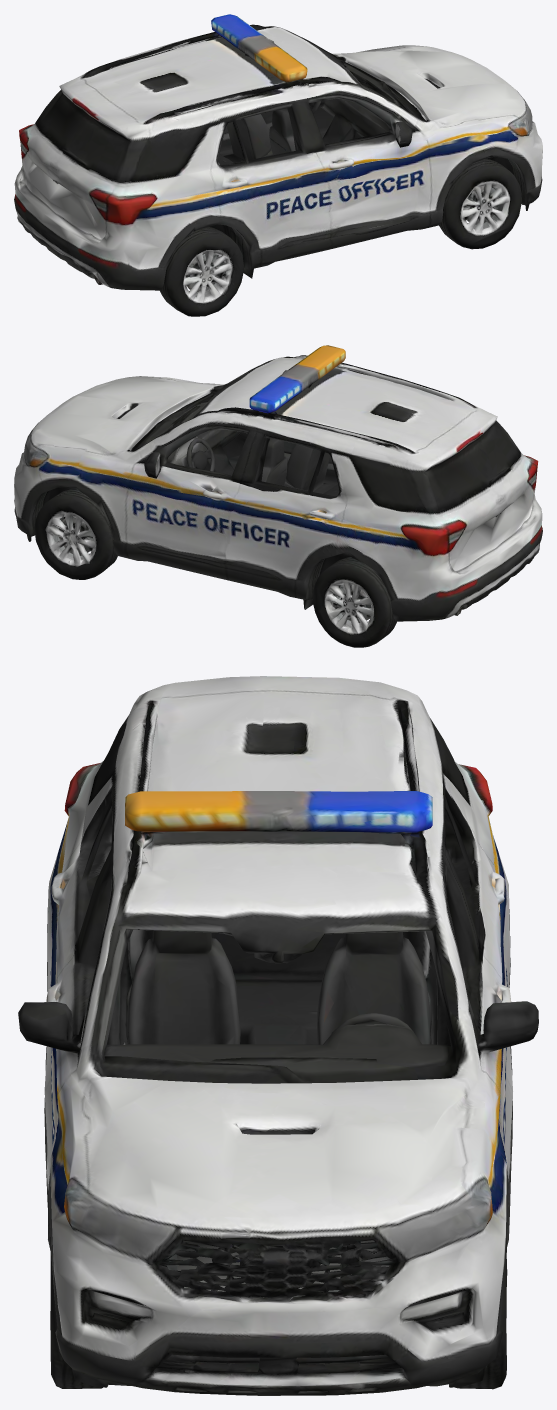
The model's file is peace.glb.
3 views of the same model, one above another, from view 1: azimuth 30°, elevation 25°; view 2: azimuth 150°, elevation 25°; view 3: azimuth 270°, elevation 25° (orthographic). The views are drawn at different scales.
Visible parts, largest first — view 1: tripo_node_ea26987d-3f40-4a4a-b9f4-fec71c7e0844; view 2: tripo_node_ea26987d-3f40-4a4a-b9f4-fec71c7e0844; view 3: tripo_node_ea26987d-3f40-4a4a-b9f4-fec71c7e0844.
Part boxes in pixels (x1,y1,x2,y2): tripo_node_ea26987d-3f40-4a4a-b9f4-fec71c7e0844: [14, 14, 542, 316]; tripo_node_ea26987d-3f40-4a4a-b9f4-fec71c7e0844: [14, 345, 542, 647]; tripo_node_ea26987d-3f40-4a4a-b9f4-fec71c7e0844: [18, 676, 538, 1395].
Size of the model in its own units: 1 by 0.4282 by 0.4847.
Materials: 1 (1 with a texture image).
